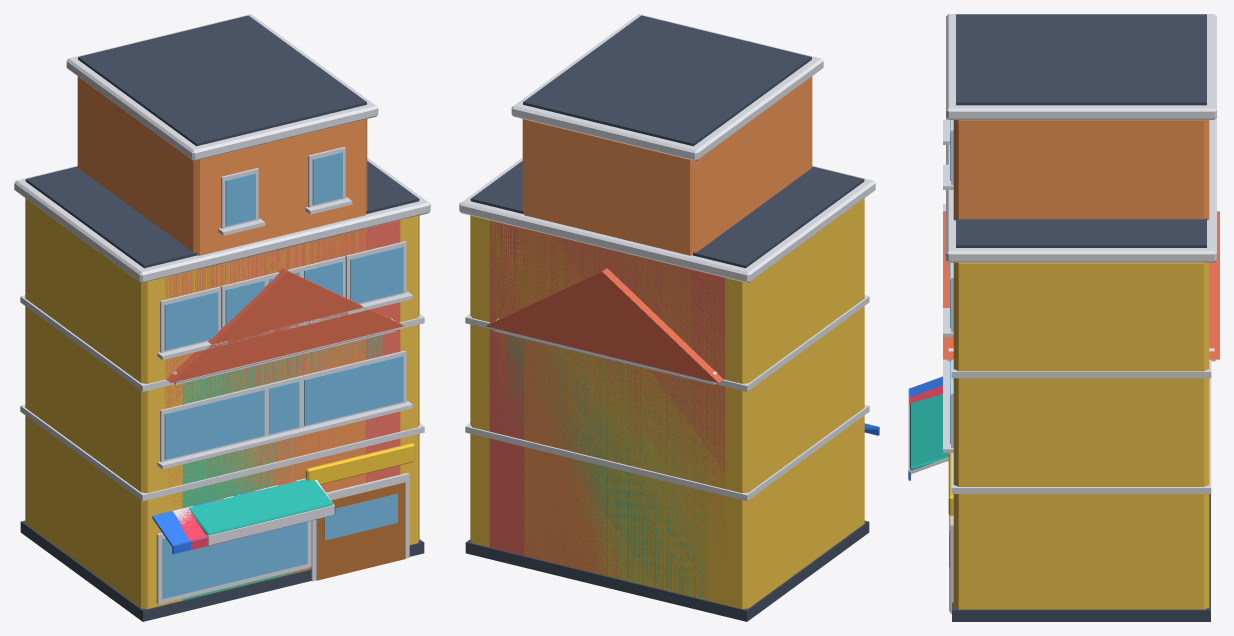
File: buildings.glb
3 renders of one model, left to right at view 1: azimuth 30°, elevation 25°; view 2: azimuth 150°, elevation 25°; view 3: azimuth 270°, elevation 25°, orthographic. The views are drawn at different scales.
Visible parts, largest first — view 1: BuildingC, BuildingE, BuildingA, BuildingB; view 2: BuildingC, BuildingE, BuildingA, BuildingB; view 3: BuildingC, BuildingE, BuildingA, BuildingB.
Part boxes in pixels (x1=…): BuildingC: x1=14, y1=158, x2=430, y2=621; BuildingE: x1=66, y1=14, x2=378, y2=608; BuildingA: x1=34, y1=165, x2=412, y2=617; BuildingB: x1=166, y1=268, x2=403, y2=600; BuildingC: x1=459, y1=158, x2=879, y2=621; BuildingE: x1=511, y1=14, x2=823, y2=608; BuildingA: x1=477, y1=165, x2=855, y2=617; BuildingB: x1=486, y1=268, x2=723, y2=613; BuildingC: x1=908, y1=120, x2=1216, y2=621; BuildingE: x1=909, y1=14, x2=1216, y2=583; BuildingA: x1=908, y1=118, x2=1216, y2=525; BuildingB: x1=908, y1=211, x2=1219, y2=519.
Bounding box in the file's own units: 8.36 × 12.72 × 7.32.
